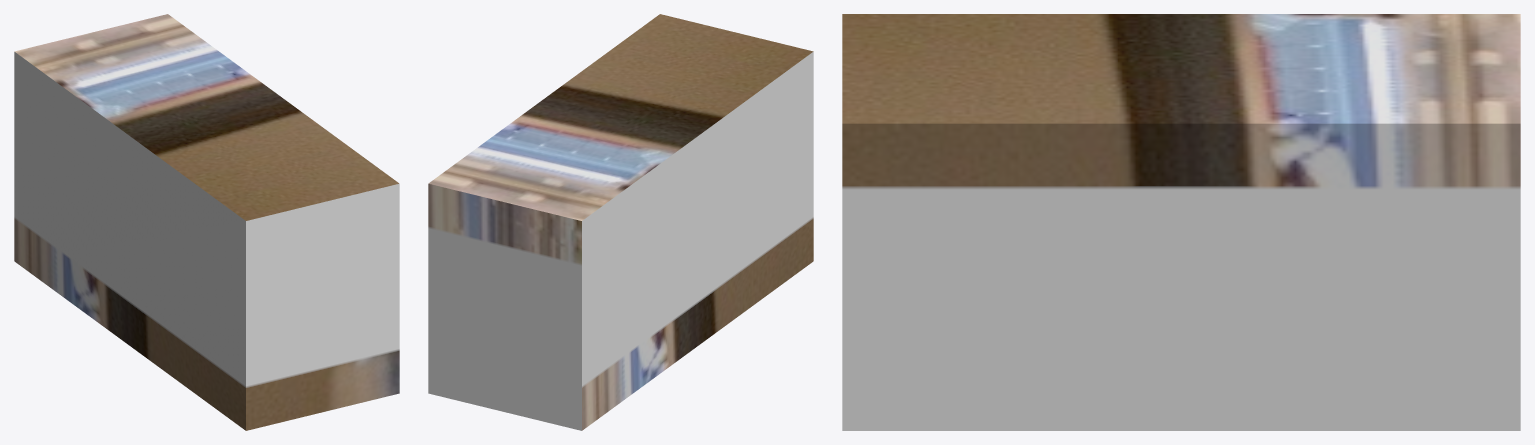
The model's file is ExitBord.fbx.
3 views of the same model, side by side, from view 1: azimuth 30°, elevation 25°; view 2: azimuth 150°, elevation 25°; view 3: azimuth 270°, elevation 25° (orthographic). The views are drawn at different scales.
Visible parts, largest first — view 1: ExitSign; view 2: ExitSign; view 3: ExitSign.
Boxes of the visible parts, box(x1,y1,x2,y2) form: ExitSign: box(14, 14, 399, 430); ExitSign: box(428, 14, 813, 430); ExitSign: box(842, 14, 1520, 430).
Size of the model in its own units: 14.67 by 19.15 by 38.33.
